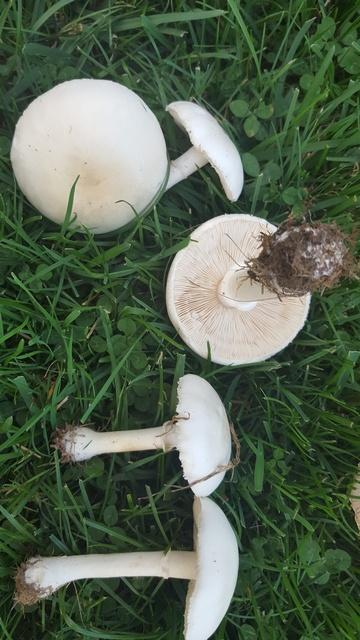Non-edible Mushroom: (9, 76, 244, 236), (7, 492, 249, 640), (164, 211, 312, 366), (51, 372, 233, 497)
